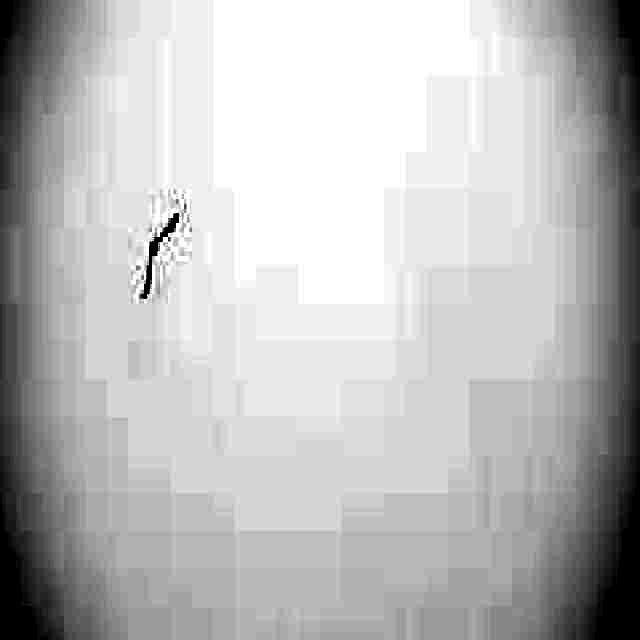bird: (138, 207, 182, 304)
